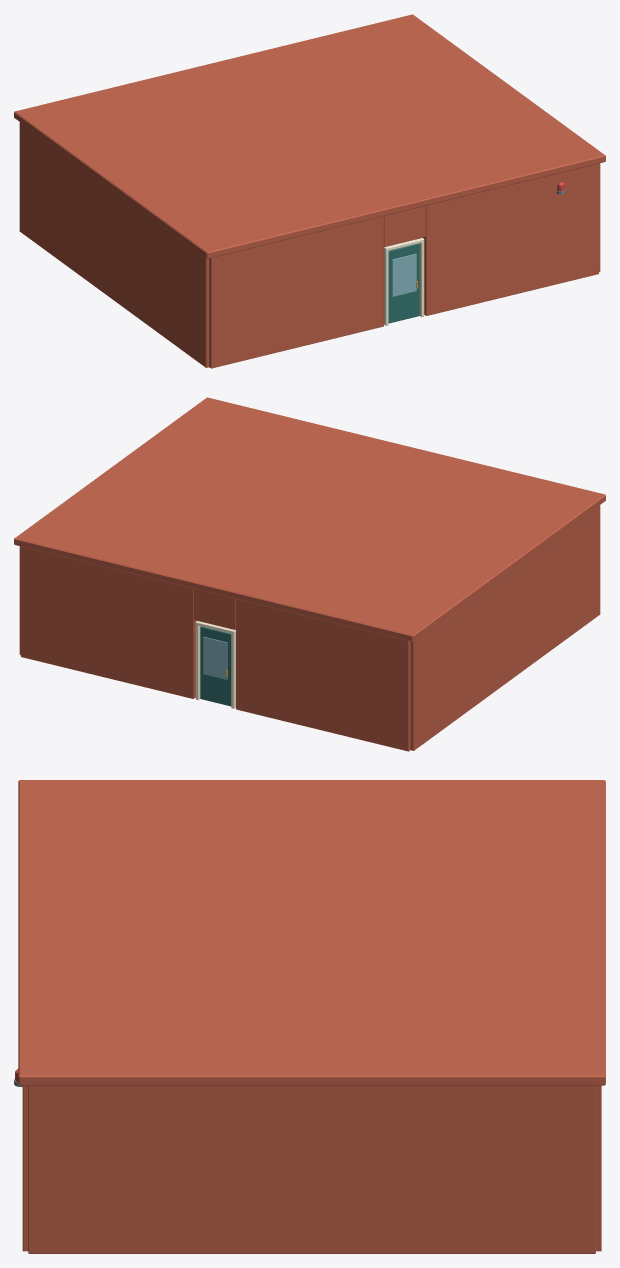
Rendered from Interior_Minimarket.fbx.
3 renders of one model, top to bottom at view 1: azimuth 30°, elevation 25°; view 2: azimuth 150°, elevation 25°; view 3: azimuth 270°, elevation 25°, orthographic. The views are drawn at different scales.
Visible parts, largest first — view 1: Roof_Removable, WallLeft, WallSegment, WallSegment.001, Entrance_Door.002, DoorHeader, Entrance_Glass.002; view 2: Roof_Removable, WallLeft, WallSegment.002, WallSegment.003, RearExit_Door.002, DoorHeader.001, RearExit_Glass.002; view 3: Roof_Removable, WallRight, WallSegment.001, WallSegment.003.
Boxes of the visible parts, bbox=[...] form: Roof_Removable: bbox=[14, 14, 605, 258]; WallLeft: bbox=[19, 122, 209, 367]; WallSegment: bbox=[209, 216, 383, 368]; WallSegment.001: bbox=[423, 163, 598, 315]; Entrance_Door.002: bbox=[388, 243, 419, 323]; DoorHeader: bbox=[384, 205, 425, 246]; Entrance_Glass.002: bbox=[392, 253, 416, 296]; Roof_Removable: bbox=[14, 397, 605, 641]; WallLeft: bbox=[410, 505, 600, 750]; WallSegment.002: bbox=[236, 599, 410, 751]; WallSegment.003: bbox=[21, 546, 196, 698]; RearExit_Door.002: bbox=[200, 626, 231, 706]; DoorHeader.001: bbox=[194, 588, 235, 629]; RearExit_Glass.002: bbox=[203, 636, 227, 679]; Roof_Removable: bbox=[18, 780, 605, 1085]; WallRight: bbox=[28, 1085, 595, 1253]; WallSegment.001: bbox=[22, 1085, 28, 1251]; WallSegment.003: bbox=[596, 1085, 601, 1251].
Bounding box in the file's own units: 12.35 × 3.5 × 10.43.
